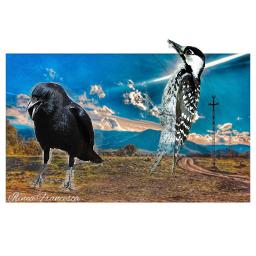Crow: (25, 82, 103, 191)
Woodpecker: (145, 38, 205, 176)
